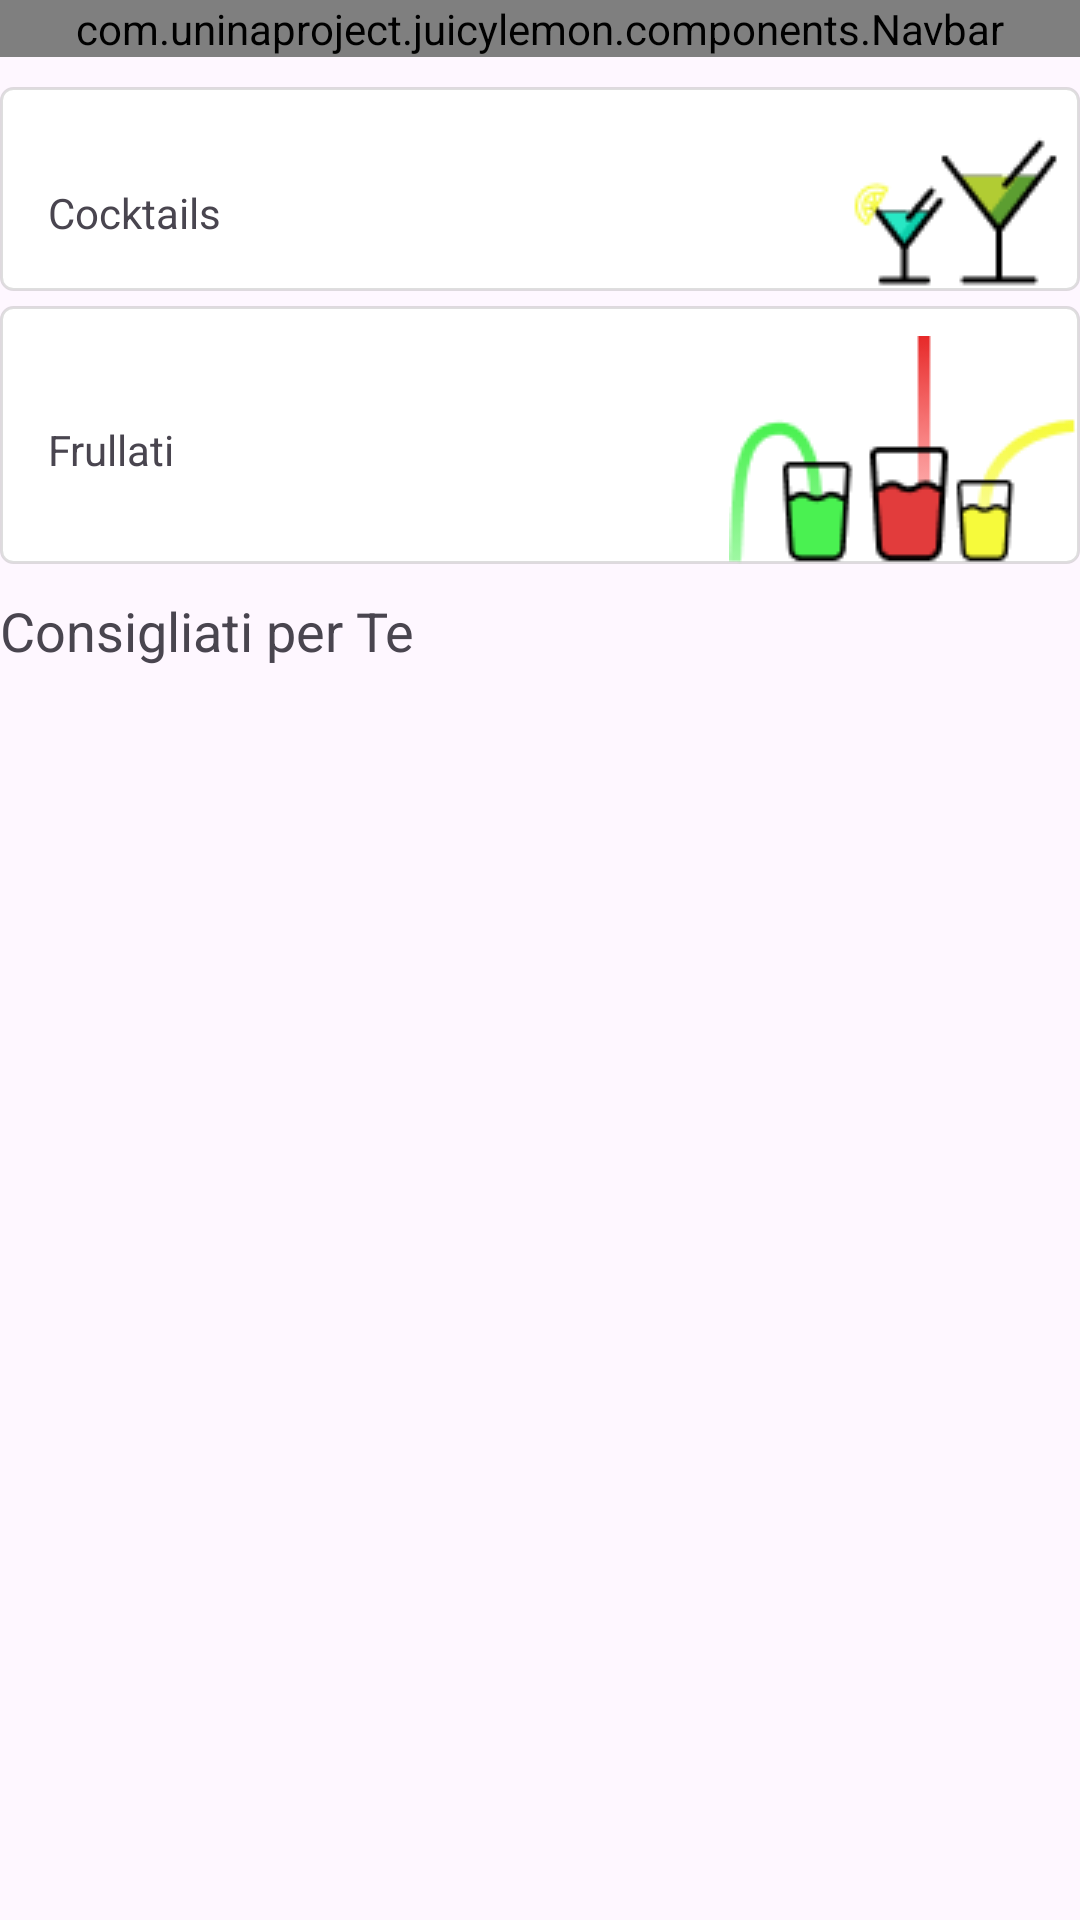

Screen size 1080px×1920px. Icon name, then its center in pixels as [x,y]:
cocktails: [955,213]
tre frullati: [903,450]
